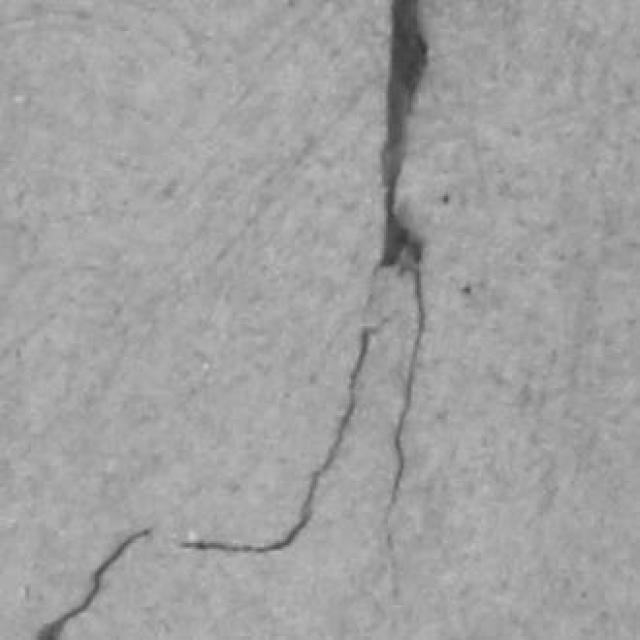crack: (181, 326, 378, 554), (375, 0, 428, 517), (381, 0, 428, 265), (37, 530, 151, 639), (388, 262, 426, 515)
